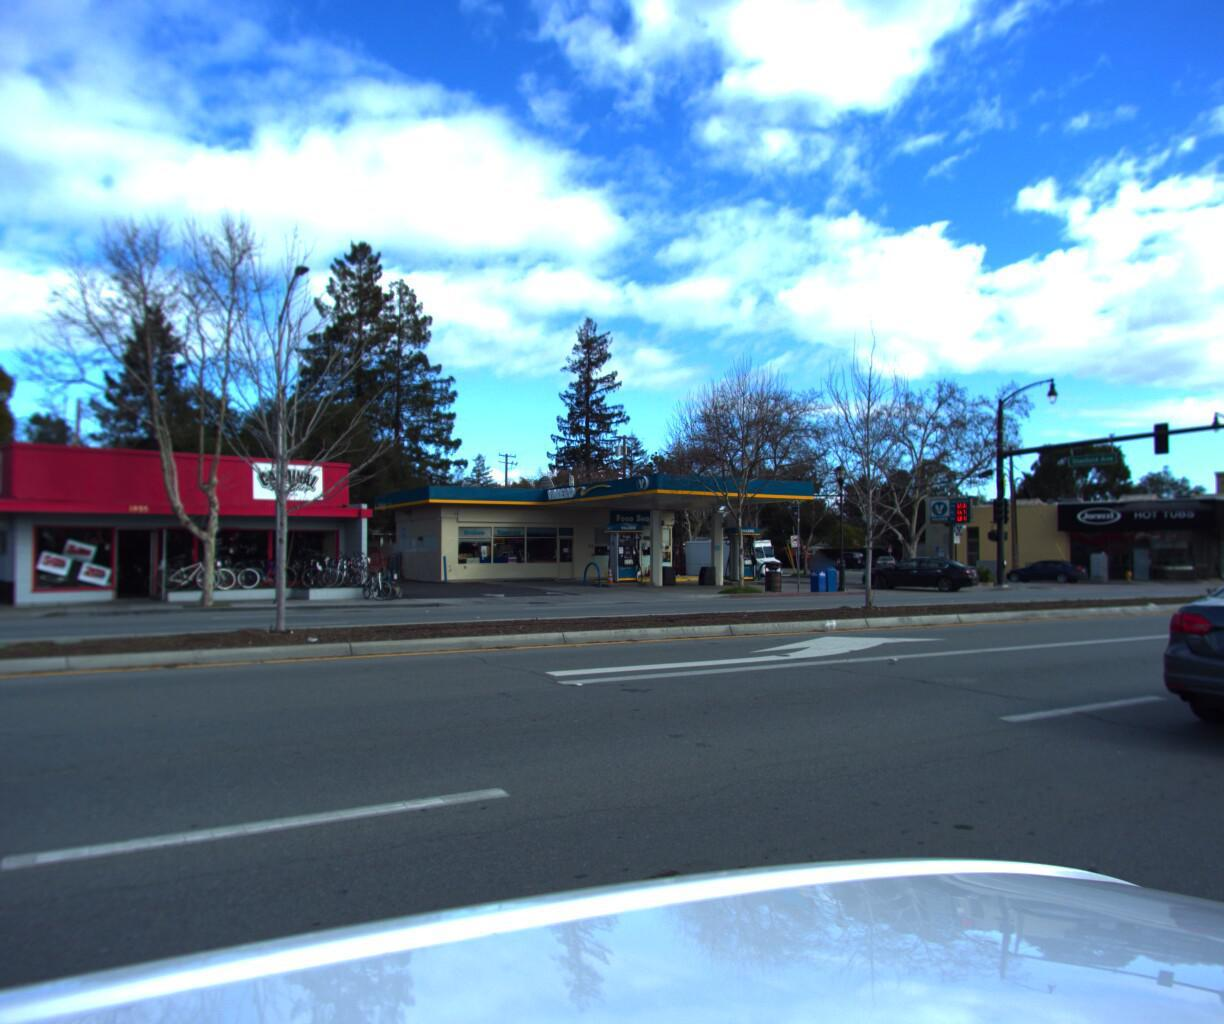bicycle: (140, 566, 190, 601), (157, 560, 206, 594), (183, 565, 232, 599), (211, 565, 259, 598), (366, 565, 410, 598), (0, 571, 1, 603)
car: (1131, 544, 1224, 783), (857, 547, 982, 588), (998, 549, 1089, 579)
truck: (681, 535, 785, 576)
